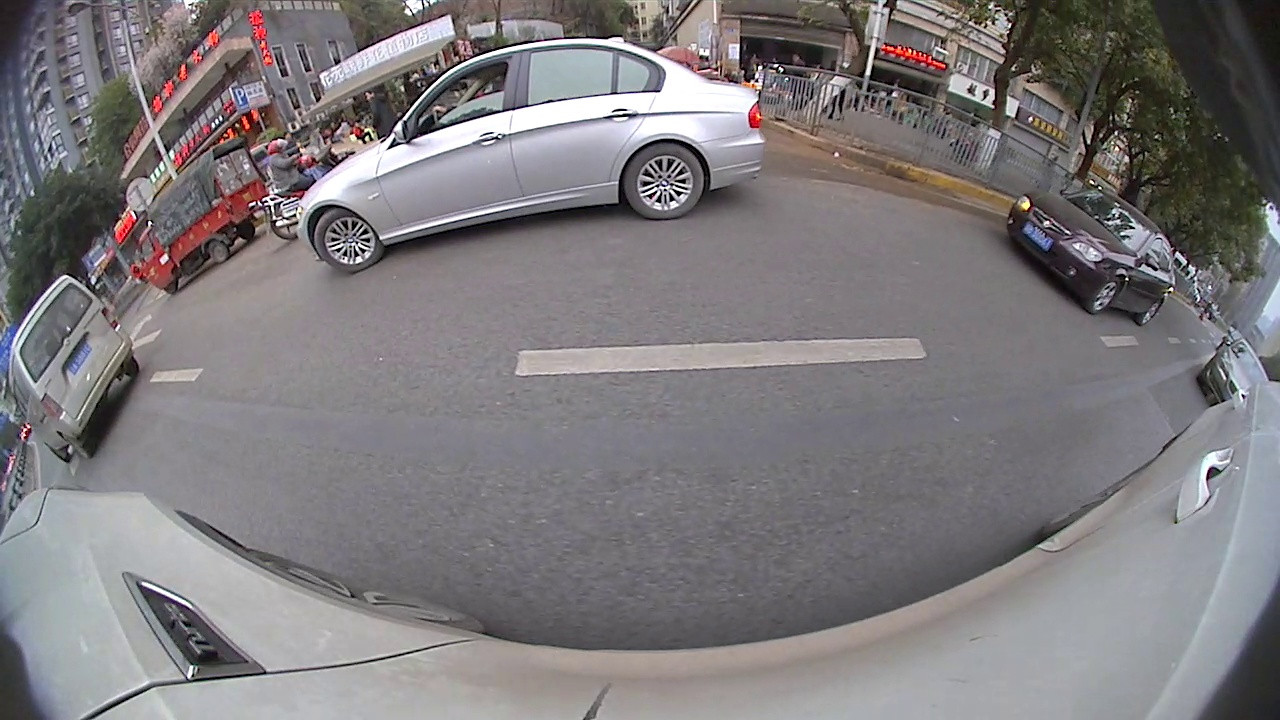car: (294, 36, 770, 281), (1003, 177, 1179, 331), (11, 265, 143, 469), (1195, 333, 1273, 410)
front: (308, 208, 386, 271), (1091, 269, 1124, 317)
rear: (622, 142, 709, 221), (262, 205, 312, 243), (1140, 294, 1166, 331), (203, 240, 239, 264)
rider: (124, 138, 272, 299), (242, 124, 364, 242)
